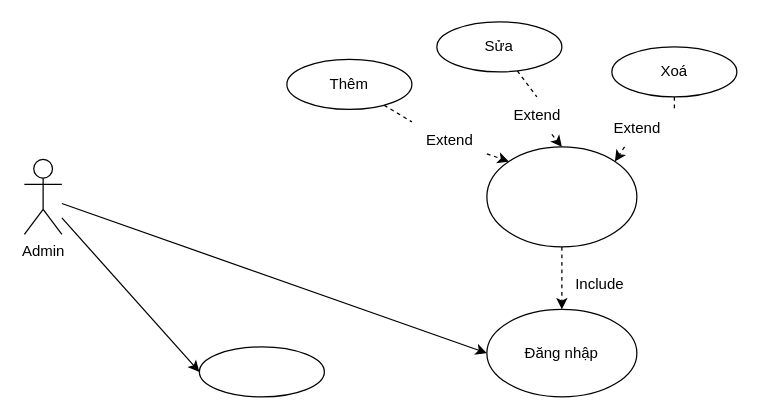
Some shapes in this 759 by 419 pixel diagram are drawn without their labels. The centre of each missing label's shape, as x and y in pixels:
"Quản lý người dùng" goes at (x=561, y=196).
"Thay đổi mật khẩu" goes at (x=261, y=371).
